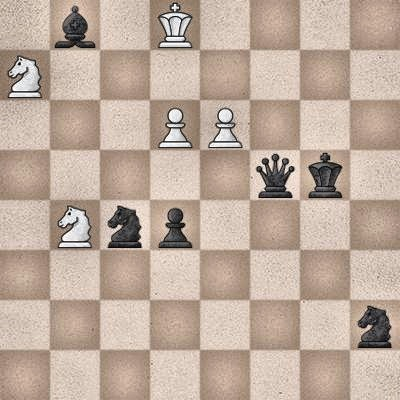black-bishop: (50, 0, 100, 50)
black-king: (300, 150, 350, 200)
black-knight: (100, 200, 150, 250), (350, 300, 400, 350)
black-pawn: (150, 200, 200, 250)
black-queen: (250, 150, 300, 200)
white-king: (150, 0, 200, 50)
white-knight: (0, 50, 50, 100), (50, 200, 100, 250)
white-pawn: (150, 100, 200, 150), (200, 100, 250, 150)
